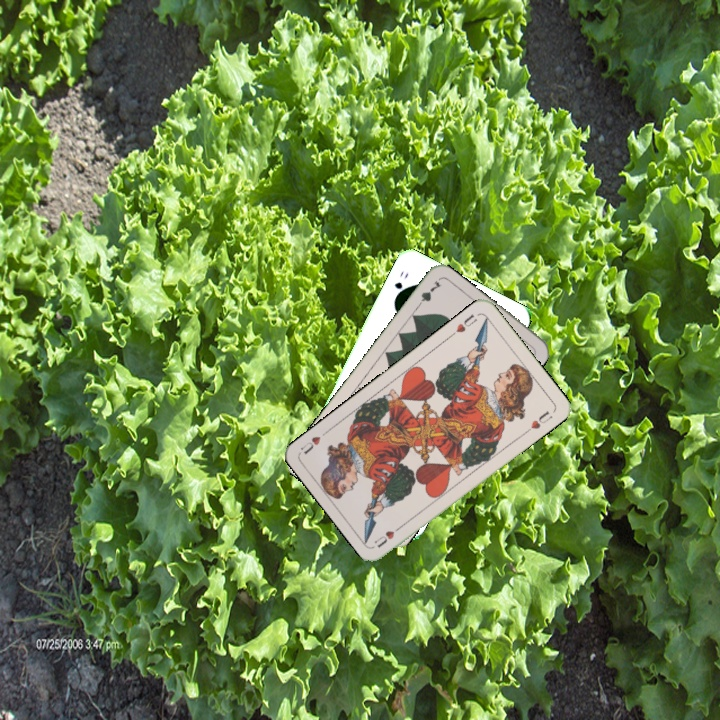G7: (412, 276, 444, 312)
GO: (390, 267, 411, 302)
HU: (370, 520, 406, 550), (447, 310, 480, 339)
